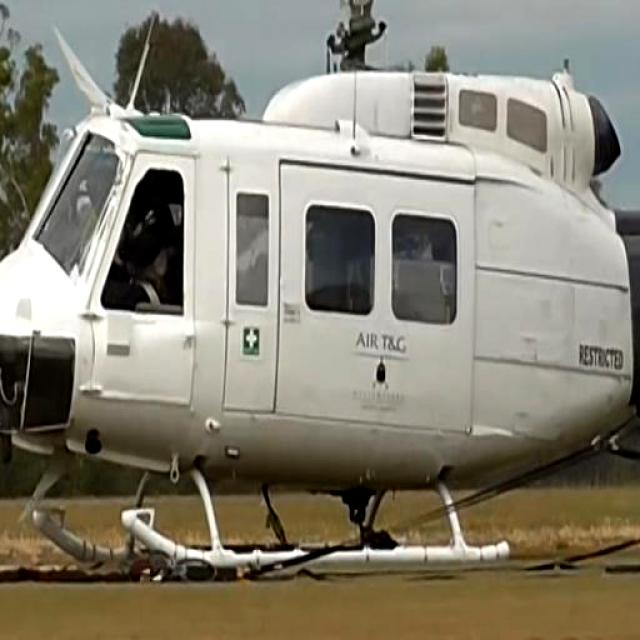drone: (0, 0, 640, 595)
